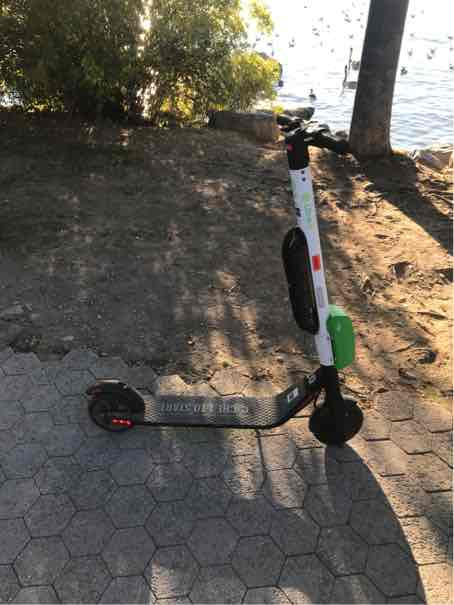scooter: (79, 92, 375, 447)
